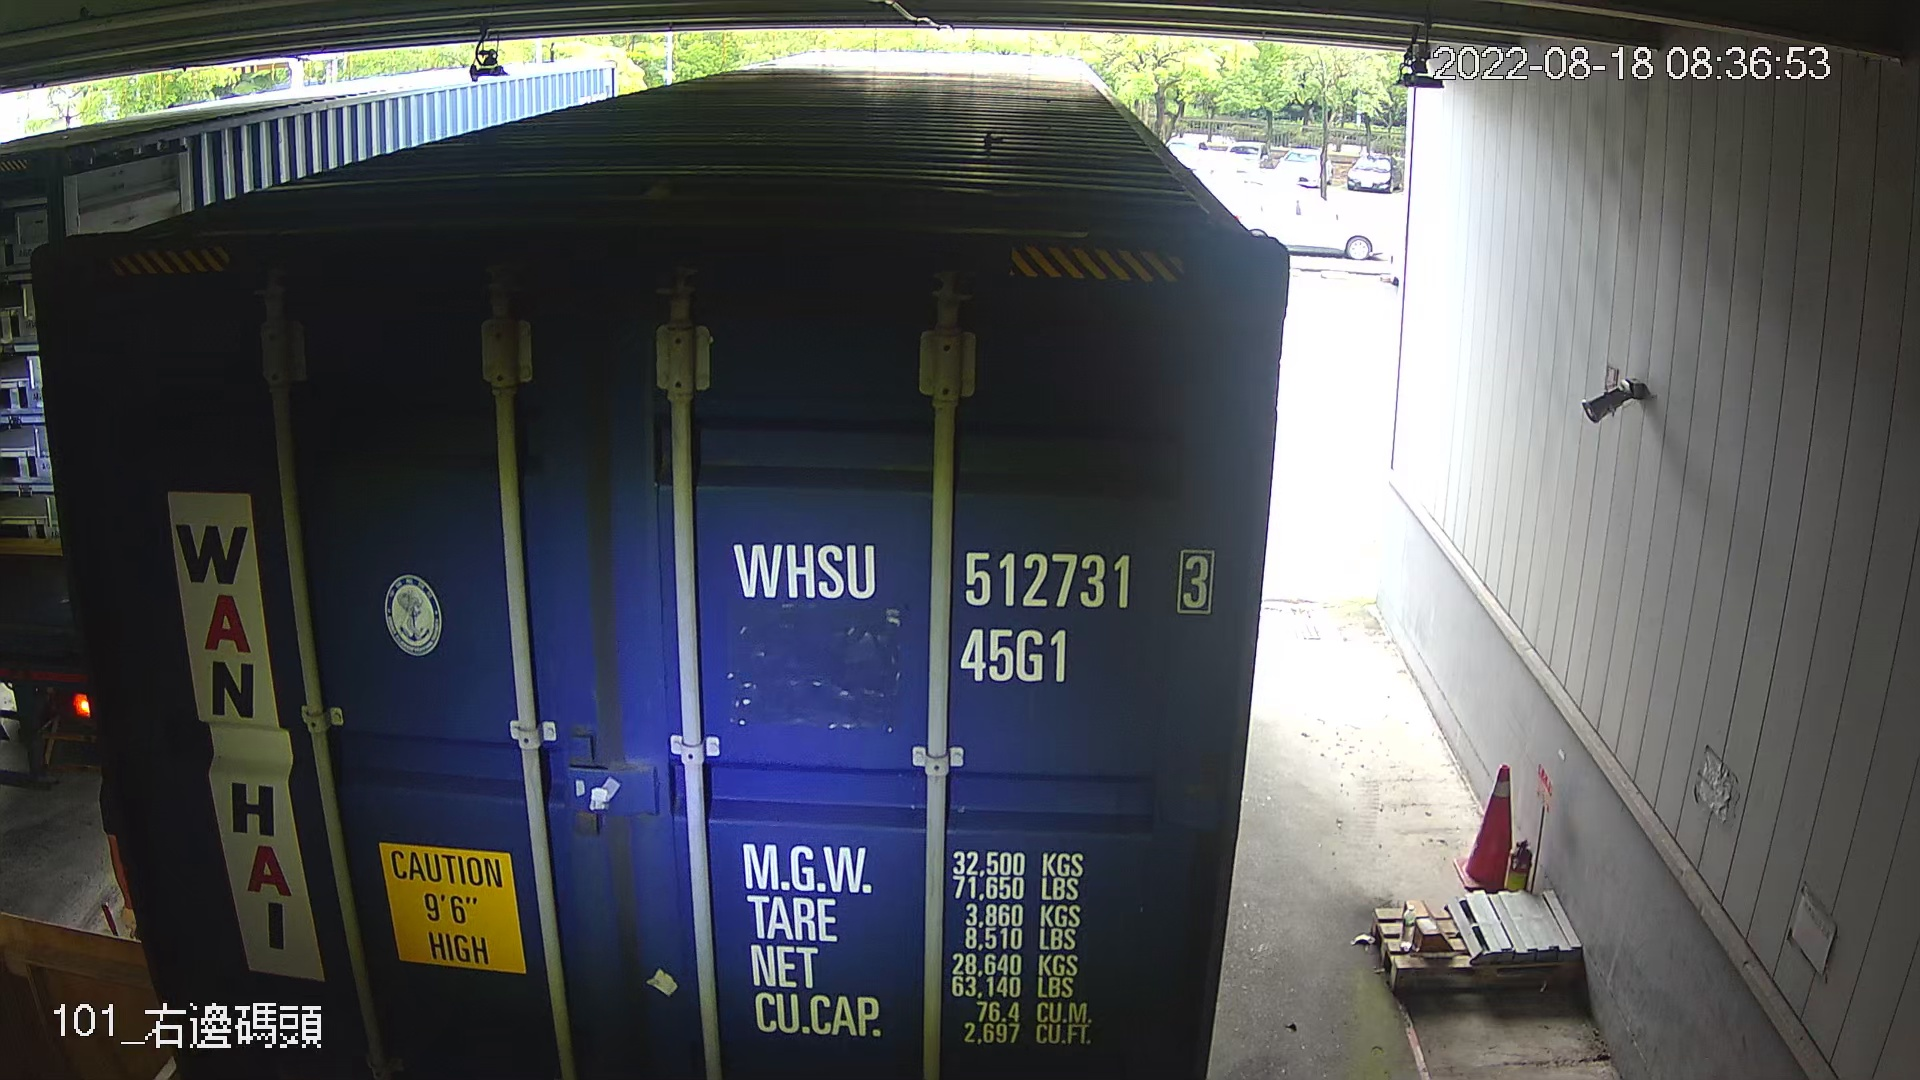container: (717, 521, 1229, 696)
